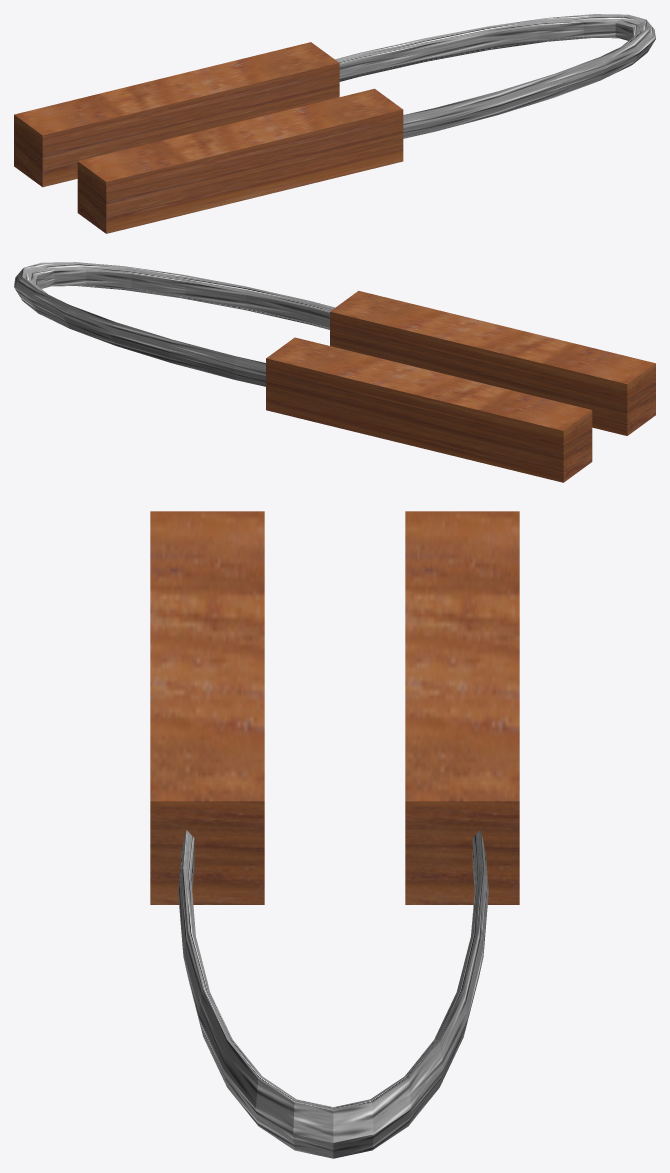
File: Nunchaku.glb
The picture shows the model from 3 angles, top to bottom: view 1: azimuth 30°, elevation 25°; view 2: azimuth 150°, elevation 25°; view 3: azimuth 270°, elevation 25°; orthographic projection. The views are drawn at different scales.
Parts seen in each view (by area): view 1: Nunchaku; view 2: Nunchaku; view 3: Nunchaku.
Boxes of the visible parts, <box> form: Nunchaku: <box>14,14,655,233</box>; Nunchaku: <box>14,262,655,482</box>; Nunchaku: <box>150,511,519,1158</box>.
Bounding box in the file's own units: 0.5997 × 0.05 × 0.1613.
1 material, 1 textured.
